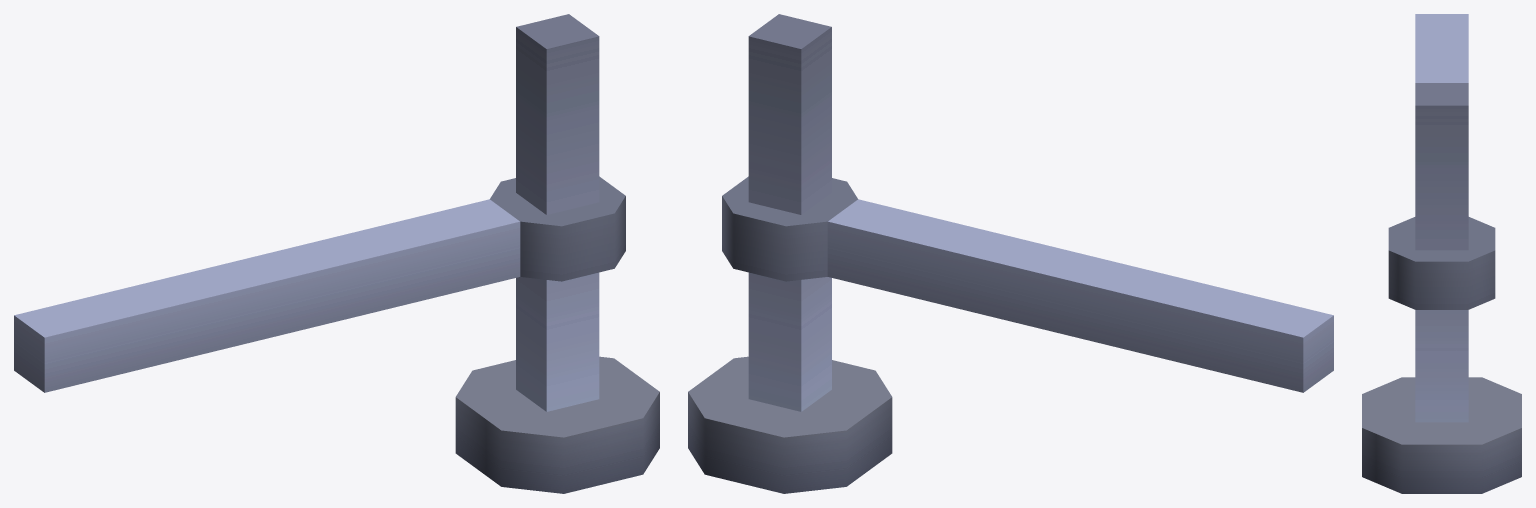
The model's file is fence.glb.
The picture shows the model from 3 angles, left to right: view 1: azimuth 30°, elevation 25°; view 2: azimuth 150°, elevation 25°; view 3: azimuth 270°, elevation 25°; orthographic projection. The views are drawn at different scales.
Parts seen in each view (by area): view 1: fence; view 2: fence; view 3: fence.
Part boxes in pixels (x1=…): fence: x1=14, y1=14, x2=659, y2=493; fence: x1=688, y1=14, x2=1333, y2=493; fence: x1=1362, y1=14, x2=1521, y2=493.
Size of the model in its own units: 0.575 by 0.379 by 0.15.
1 material, 1 textured.
